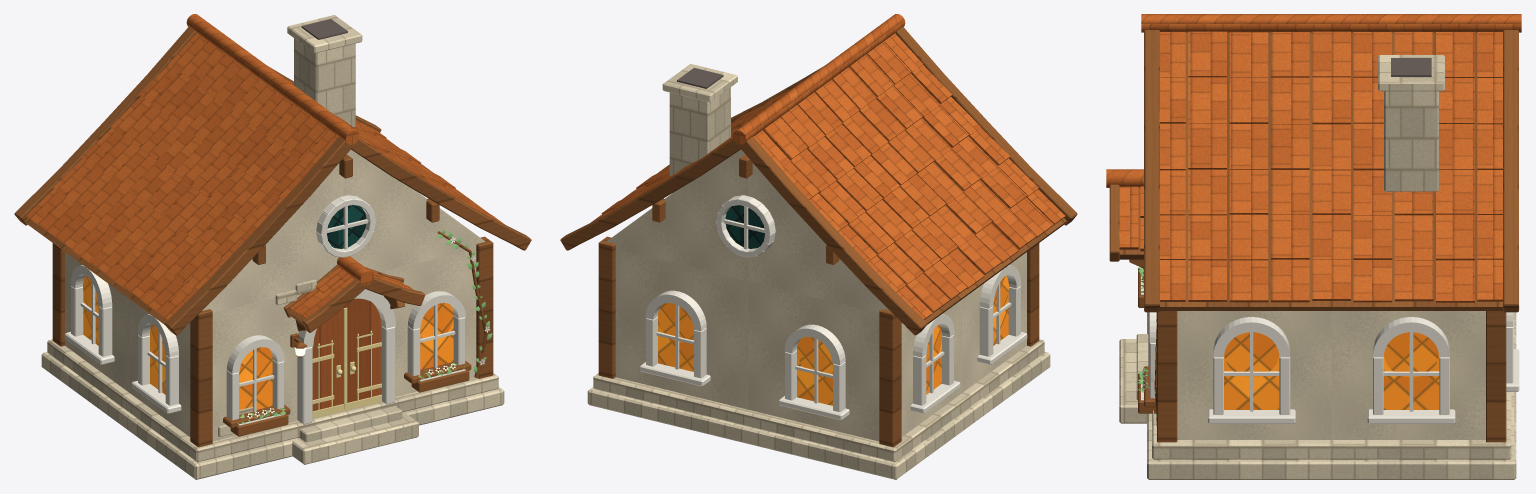
The model's file is cottage-clay-DyN_rr1N.glb.
The picture shows the model from 3 angles, left to right: view 1: azimuth 30°, elevation 25°; view 2: azimuth 150°, elevation 25°; view 3: azimuth 270°, elevation 25°; orthographic projection. The views are drawn at different scales.
Parts seen in each view (by area): view 1: cottage-clay; view 2: cottage-clay; view 3: cottage-clay.
Boxes of the visible parts, <box> form: cottage-clay: <box>14,14,531,479</box>; cottage-clay: <box>560,14,1077,479</box>; cottage-clay: <box>1106,14,1521,479</box>.
Bounding box in the file's own units: 6.87 × 5.71 × 5.72.
13 materials, 7 textured.
